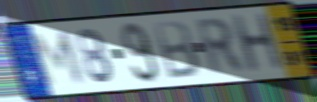8: (77, 27, 114, 85)
9: (121, 20, 163, 85)
B: (151, 18, 202, 81)
H: (227, 10, 287, 77)
M: (30, 29, 86, 89)
R: (192, 16, 250, 79)
